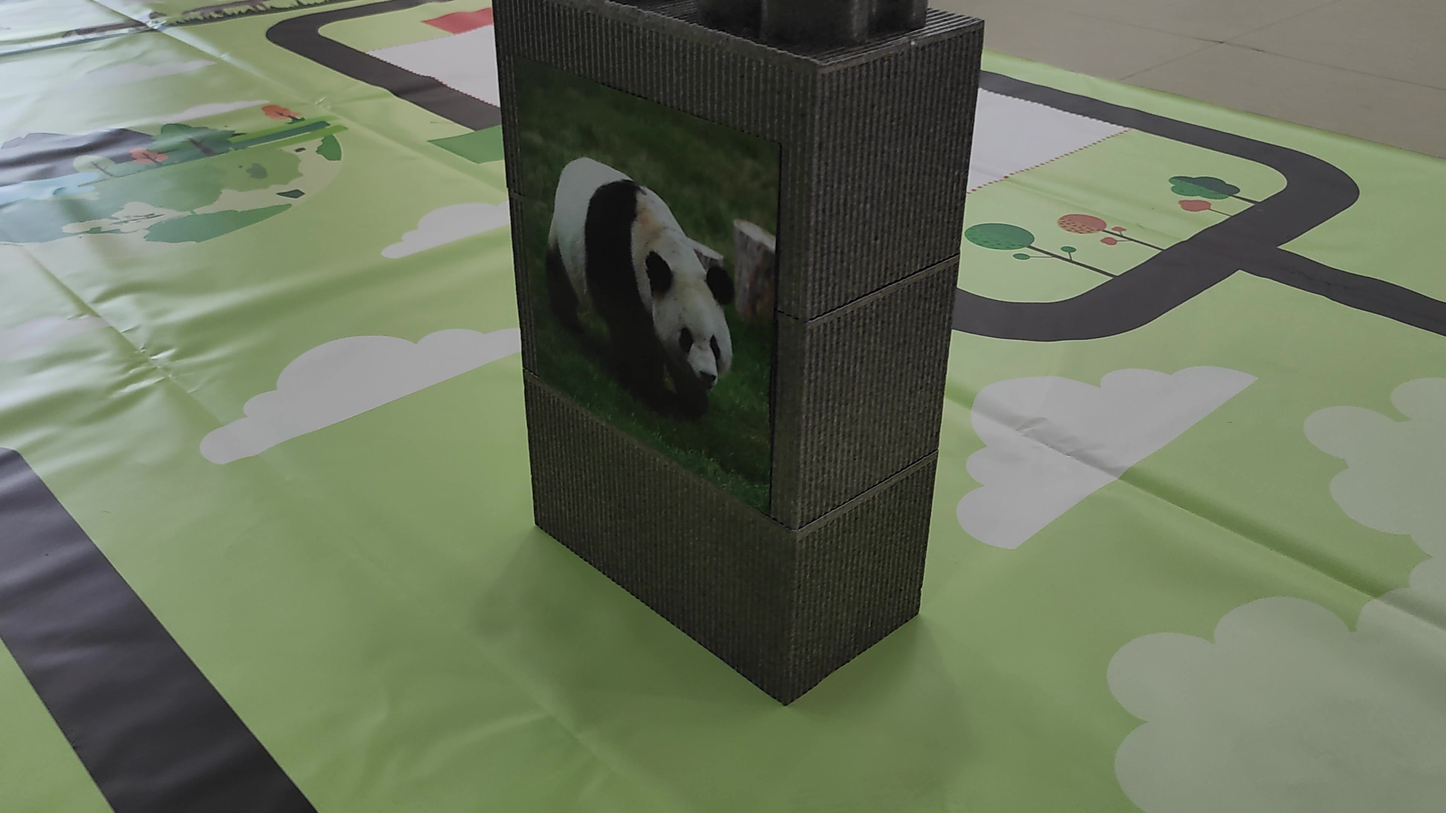panda: (526, 153, 737, 428)
